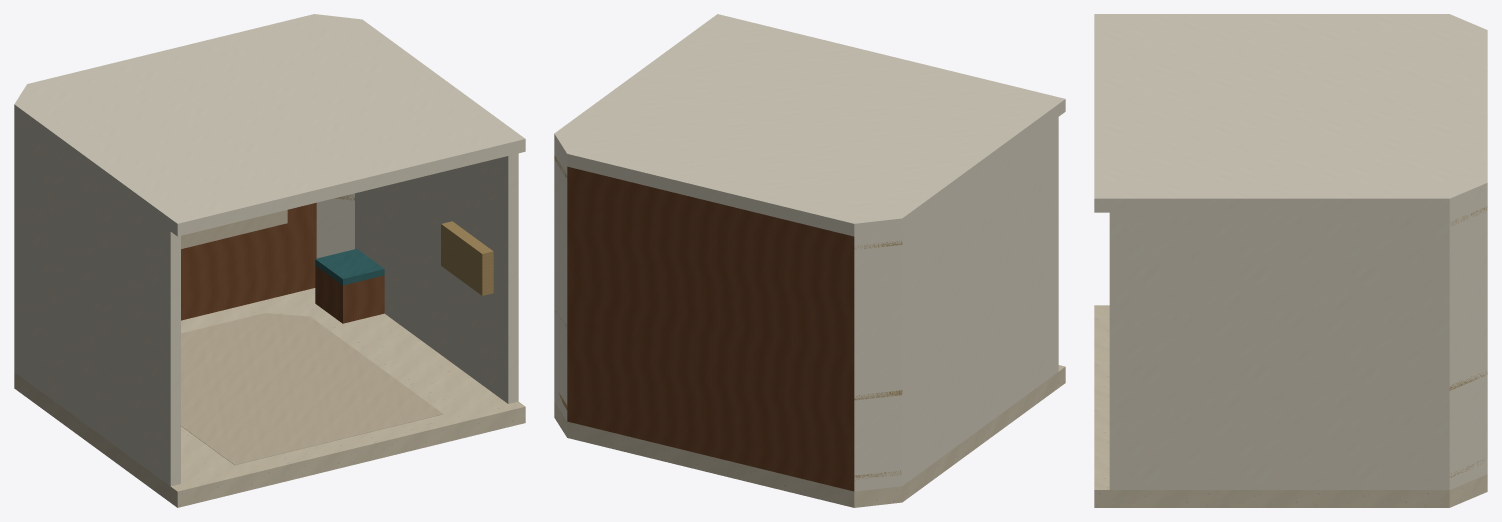
Rendered from AST-CIR-003_three_stop.glb.
The picture shows the model from 3 angles, left to right: view 1: azimuth 30°, elevation 25°; view 2: azimuth 150°, elevation 25°; view 3: azimuth 270°, elevation 25°; orthographic projection. The views are drawn at different scales.
Parts seen in each view (by area): view 1: CAB_ivory_enamel, CAB_oatmeal_weave, CAB_warm_stone, CAB_warm_walnut, CAB_champagne_metal, CAB_teal_weave; view 2: CAB_ivory_enamel, CAB_warm_walnut, CAB_warm_stone, CAB_champagne_metal; view 3: CAB_ivory_enamel, CAB_warm_stone.
Boxes of the visible parts, x1,y1,x2,y2 form: CAB_ivory_enamel: (14,14,525,486); CAB_oatmeal_weave: (181,210,442,465); CAB_warm_stone: (14,288,525,507); CAB_warm_walnut: (181,202,384,323); CAB_champagne_metal: (335,195,493,295); CAB_teal_weave: (315,249,384,285); CAB_ivory_enamel: (554,14,1065,491); CAB_warm_walnut: (567,166,854,491); CAB_warm_stone: (554,365,1065,507); CAB_champagne_metal: (554,155,902,480); CAB_ivory_enamel: (1094,14,1487,489); CAB_warm_stone: (1094,305,1487,507).
Bounding box in the file's own units: 4 × 3.12 × 3.6.
7 materials, 6 textured.
